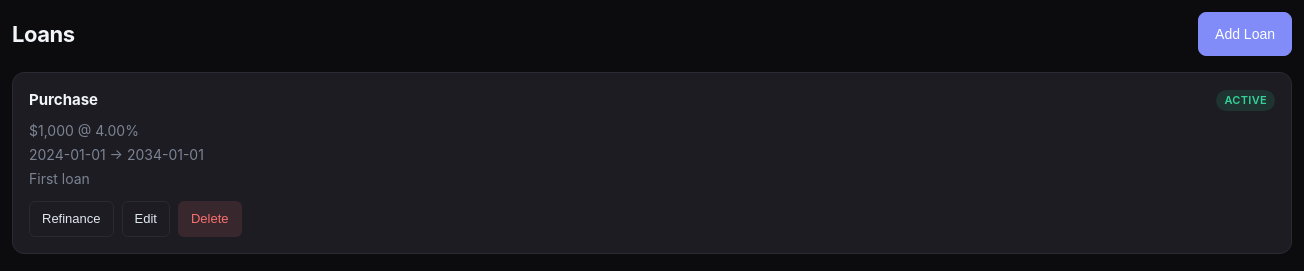
Scenario: LoansPage › can delete a loan
Expected: the text "Purchase" is shown, 29,89 -> 98,112
What coordinates should you click on to do the following:
click the button "Delete"
I would click on:
 (210, 219)
Its box is 178,201 -> 242,237.
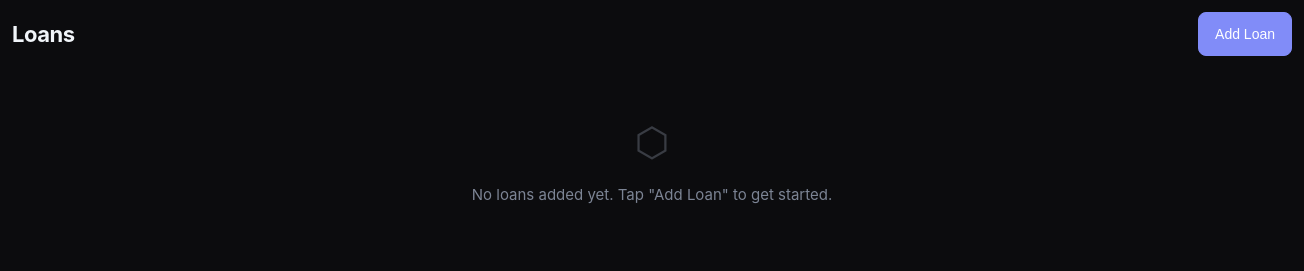
Result: the text "No loans added yet. Tap \"Add Loan\" to get started." is shown at 472,185 -> 832,204
